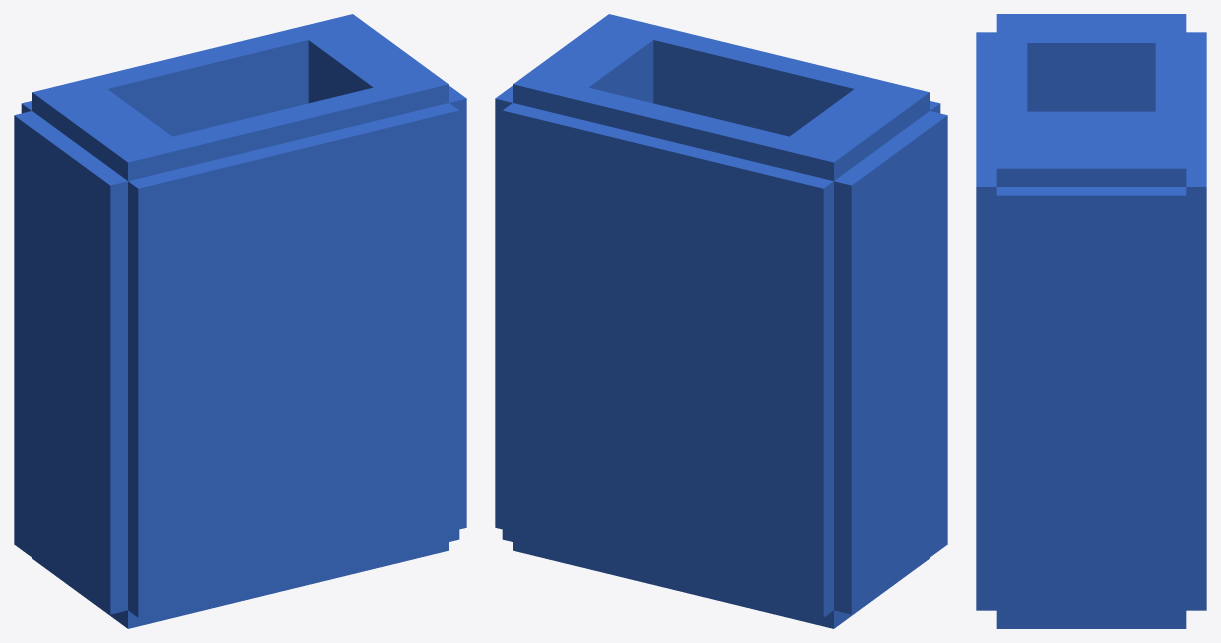
The model's file is default_body.fbx.
3 renders of one model, left to right at view 1: azimuth 30°, elevation 25°; view 2: azimuth 150°, elevation 25°; view 3: azimuth 270°, elevation 25°, orthographic.
Parts seen in each view (by area): view 1: Jacket_body; view 2: Jacket_body; view 3: Jacket_body.
Boxes of the visible parts, bbox=[...] form: Jacket_body: bbox=[14, 14, 466, 628]; Jacket_body: bbox=[495, 14, 947, 628]; Jacket_body: bbox=[976, 14, 1206, 628].
Bounding box in the file's own units: 60 × 75 × 34.
